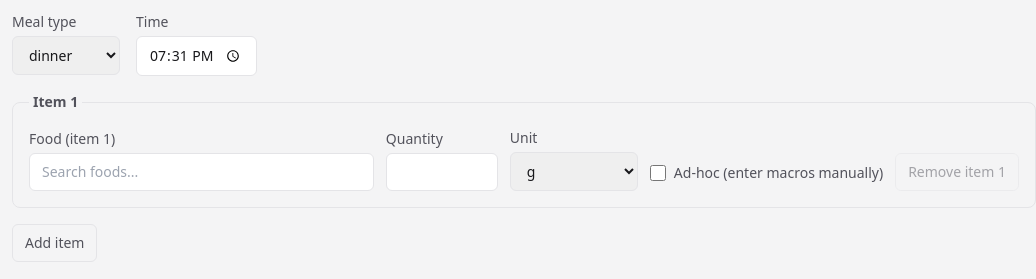
Test: MealEditor › closes the food search results on Escape without picking anything
Type "chick" into the dropdown labelled "Food (item 1)" at coordinates (201, 172), box [29,153,374,191]
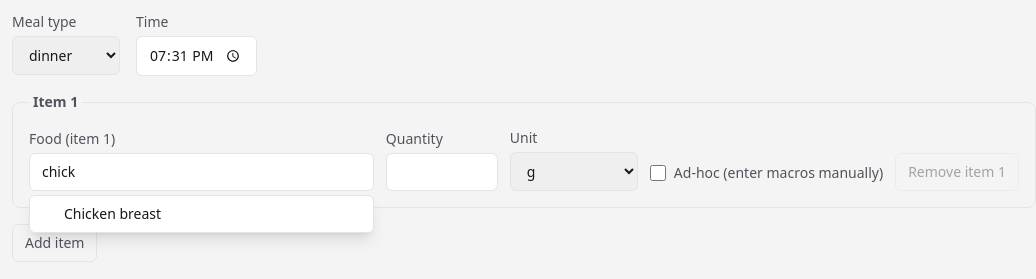
expect the option "Chicken breast" is shown: met, box [30,196,373,232]
Press Escape in the dropdown labelled "Food (item 1)", box [29,153,374,191]
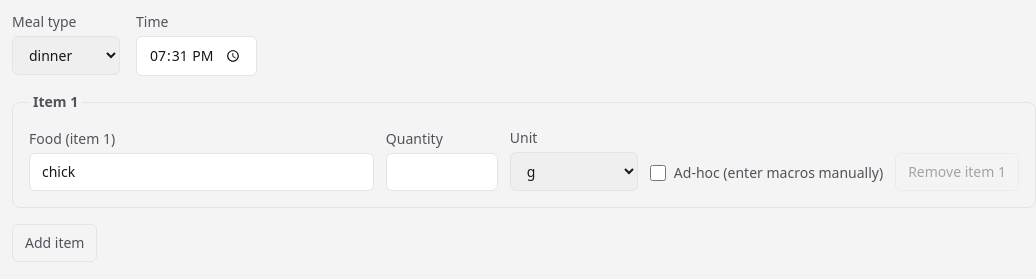
expect the button "Chicken breast" is gone: met
